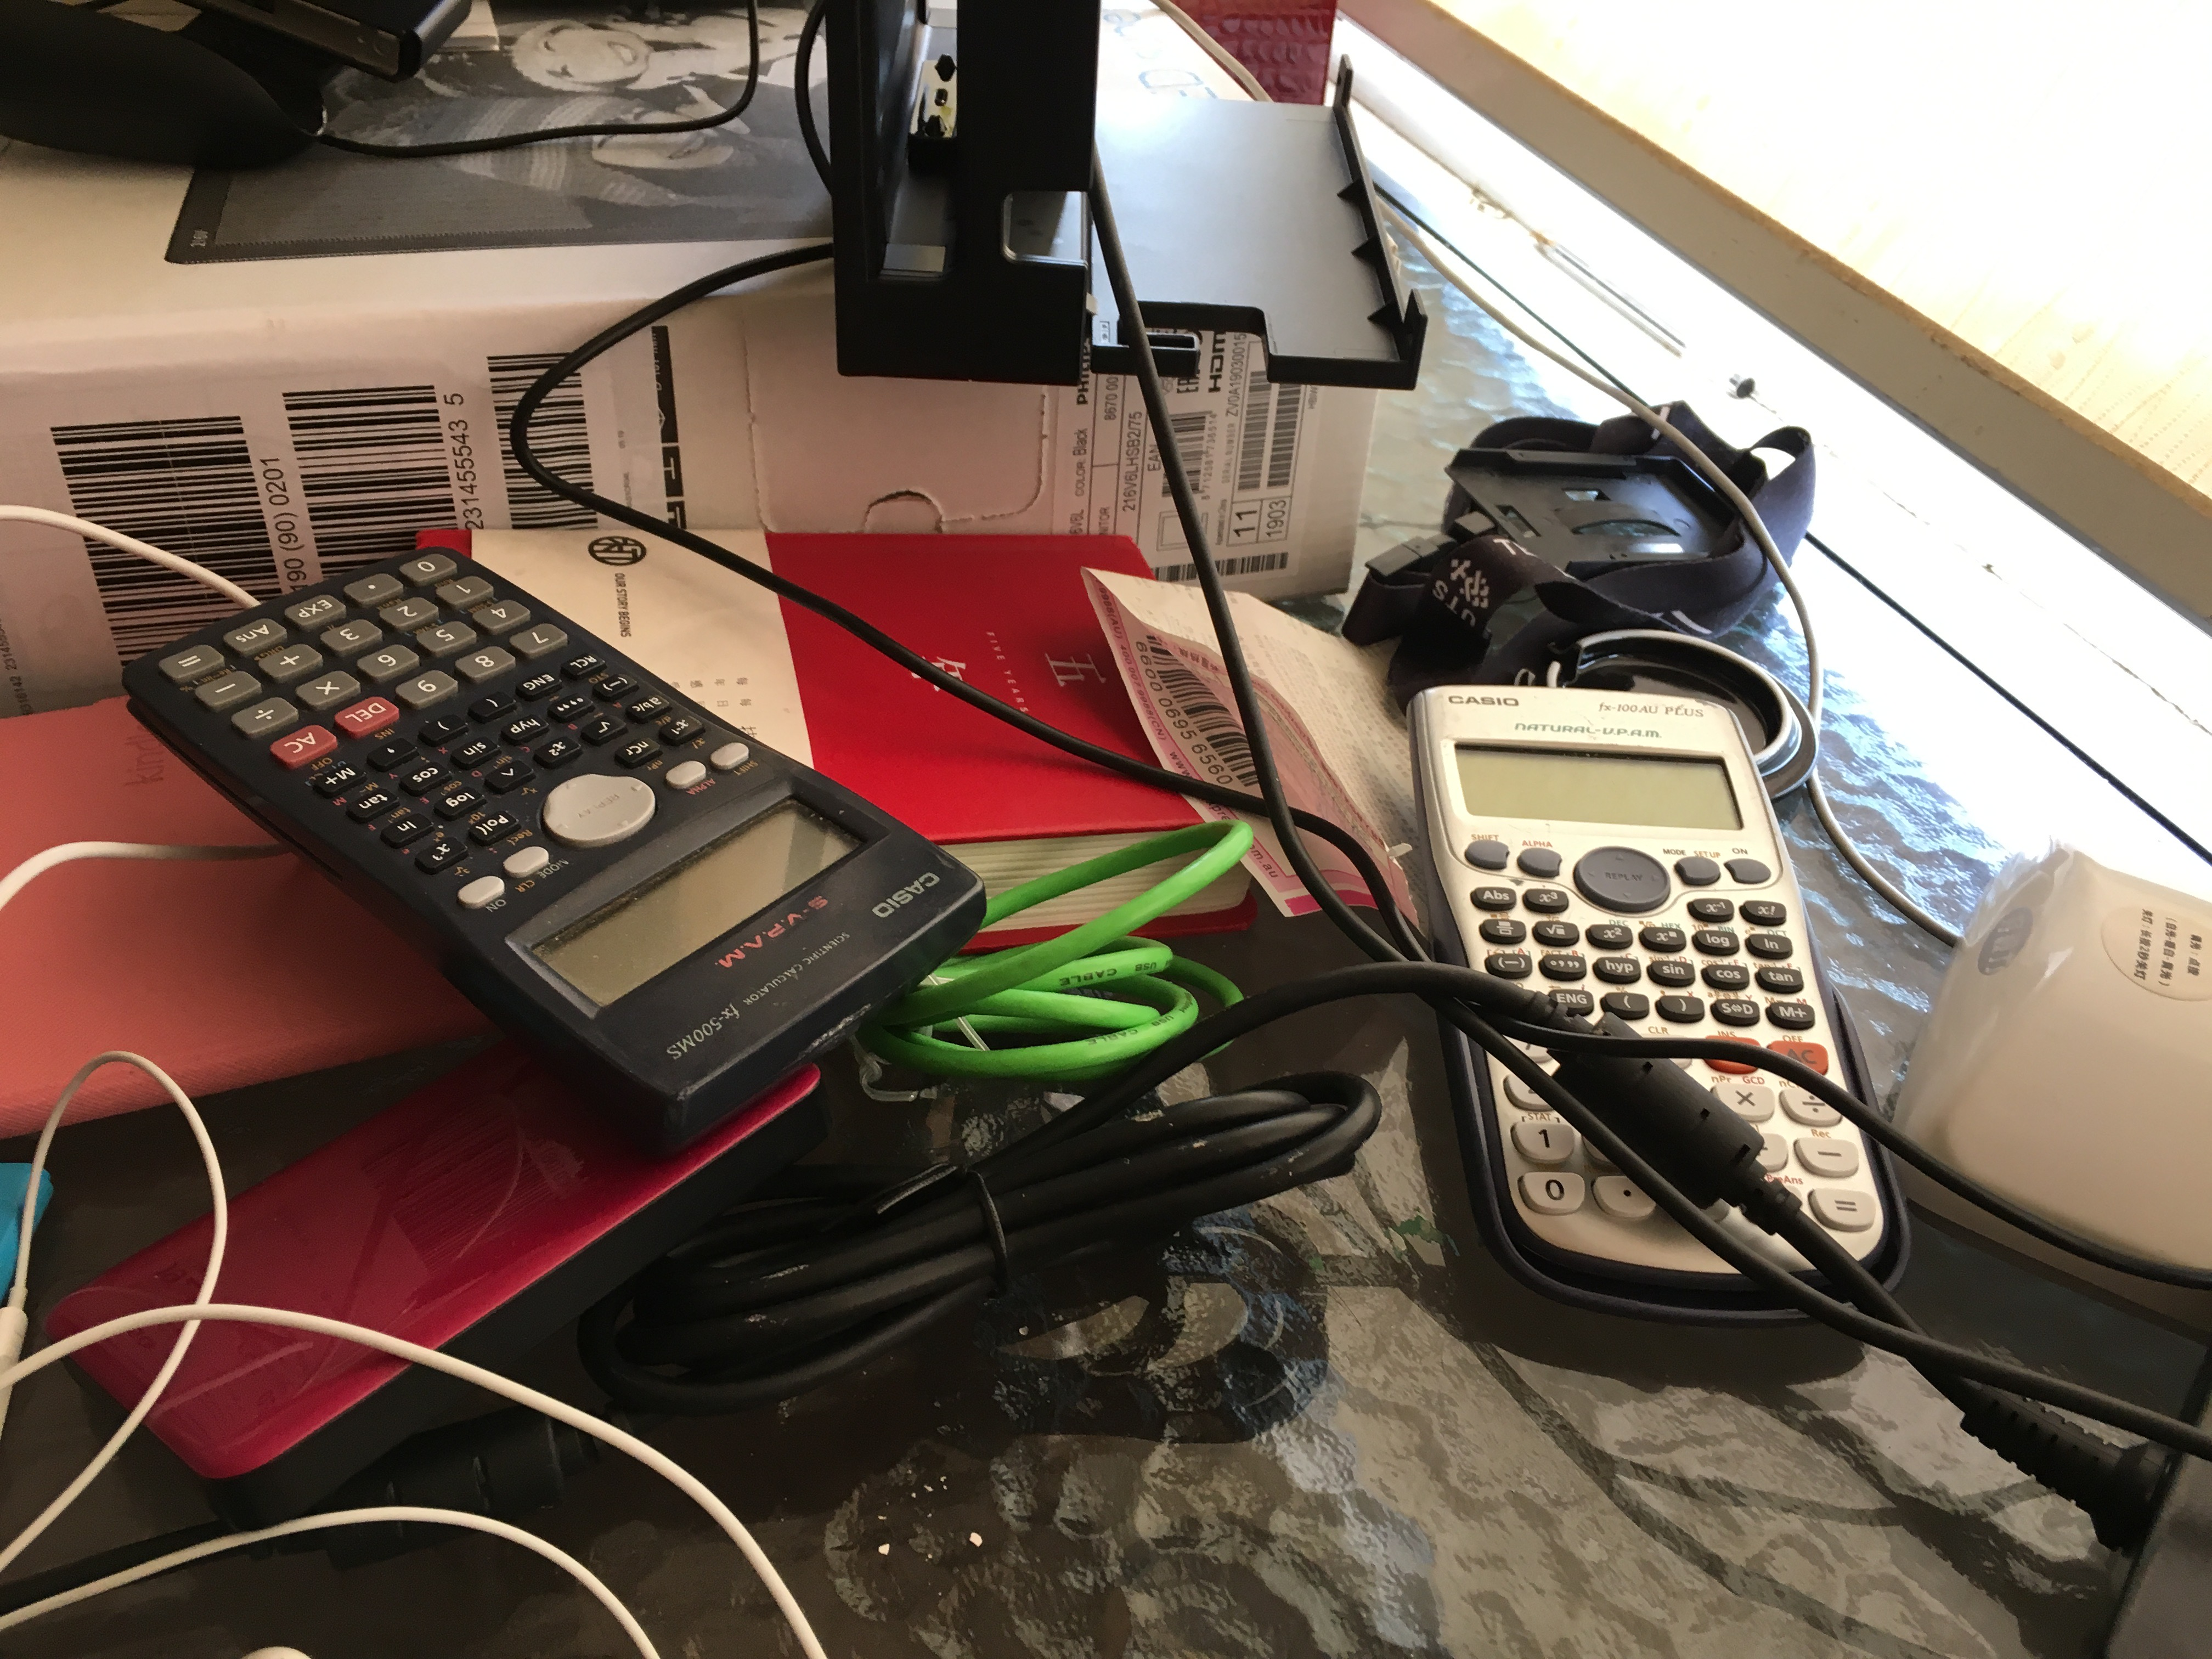Calculator: (111, 537, 993, 1162), (1402, 673, 1919, 1335)
